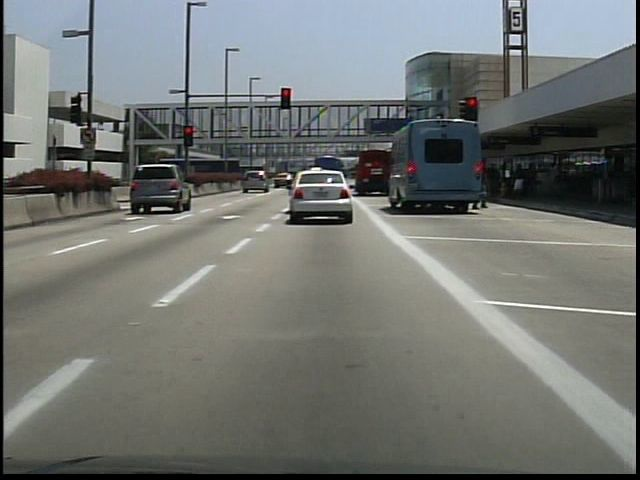person: (511, 159, 527, 202)
